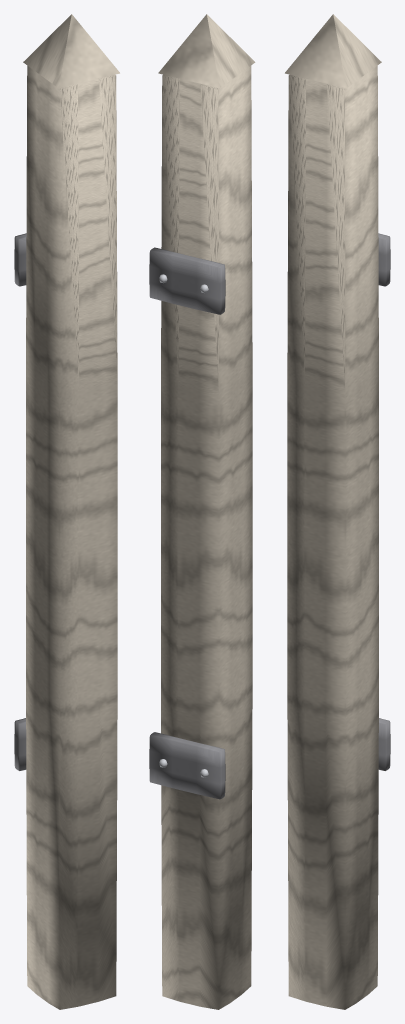
Rendered from fence_post.glb.
3 renders of one model, left to right at view 1: azimuth 30°, elevation 25°; view 2: azimuth 150°, elevation 25°; view 3: azimuth 330°, elevation 25°, orthographic.
Visible parts, largest first — view 1: fence_post_body; view 2: fence_post_body; view 3: fence_post_body.
Part boxes in pixels (box(x1,y1,x2,y2)): fence_post_body: box(14, 14, 119, 1009); fence_post_body: box(149, 14, 255, 1009); fence_post_body: box(285, 14, 390, 1009).
Bounding box in the file's own units: 0.14 × 1.82 × 0.144.
Materials: 3 (3 with a texture image).
